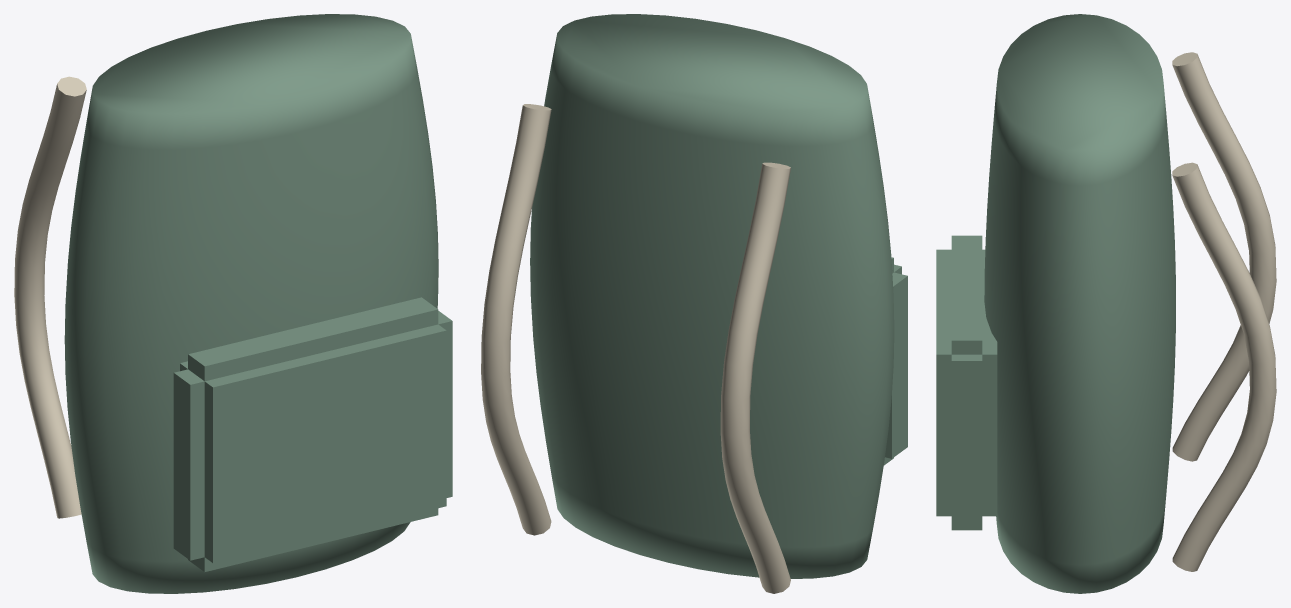
The model's file is sku_v23_backpack.glb.
3 renders of one model, left to right at view 1: azimuth 30°, elevation 25°; view 2: azimuth 150°, elevation 25°; view 3: azimuth 270°, elevation 25°, orthographic. The views are drawn at different scales.
Visible parts, largest first — view 1: sku_v23_backpack_V23_soft_sage, sku_v23_backpack_V23_natural_canvas; view 2: sku_v23_backpack_V23_soft_sage, sku_v23_backpack_V23_natural_canvas; view 3: sku_v23_backpack_V23_soft_sage, sku_v23_backpack_V23_natural_canvas.
Boxes of the visible parts, left/top/right/bottom form: sku_v23_backpack_V23_soft_sage: left=64, top=14, right=452, bottom=593; sku_v23_backpack_V23_natural_canvas: left=14, top=76, right=86, bottom=518; sku_v23_backpack_V23_soft_sage: left=530, top=14, right=907, bottom=578; sku_v23_backpack_V23_natural_canvas: left=481, top=104, right=790, bottom=593; sku_v23_backpack_V23_soft_sage: left=936, top=14, right=1175, bottom=593; sku_v23_backpack_V23_natural_canvas: left=1172, top=52, right=1276, bottom=571.
Bounding box in the file's own units: 0.22 × 0.28 × 0.1951.
